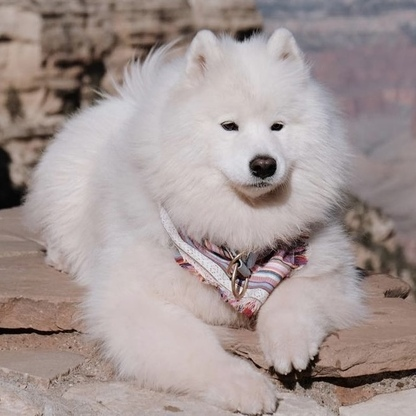samoyed: (15, 16, 372, 414)
